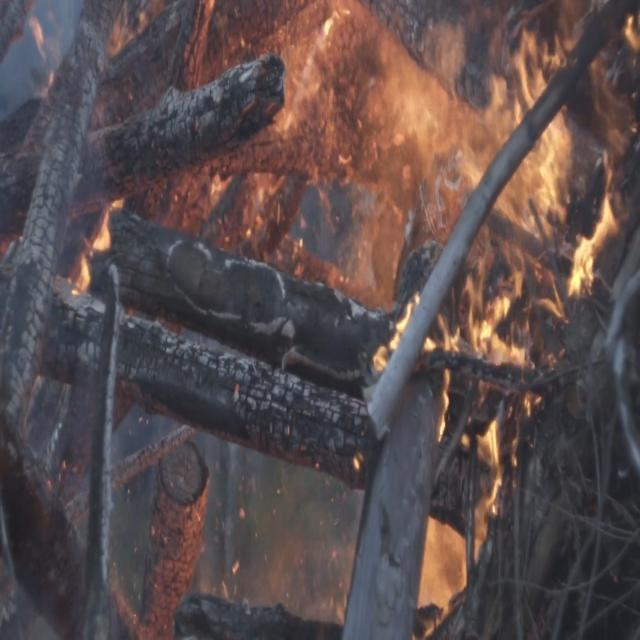Fire: (370, 0, 640, 508), (218, 0, 364, 273), (64, 170, 168, 330), (407, 508, 527, 640)
